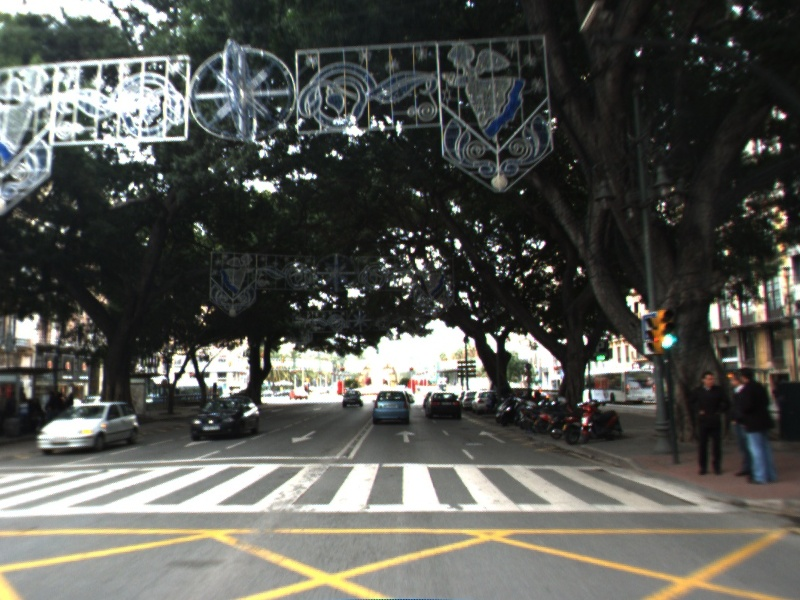STRAIGHT: (477, 428, 509, 445), (393, 428, 418, 445)
